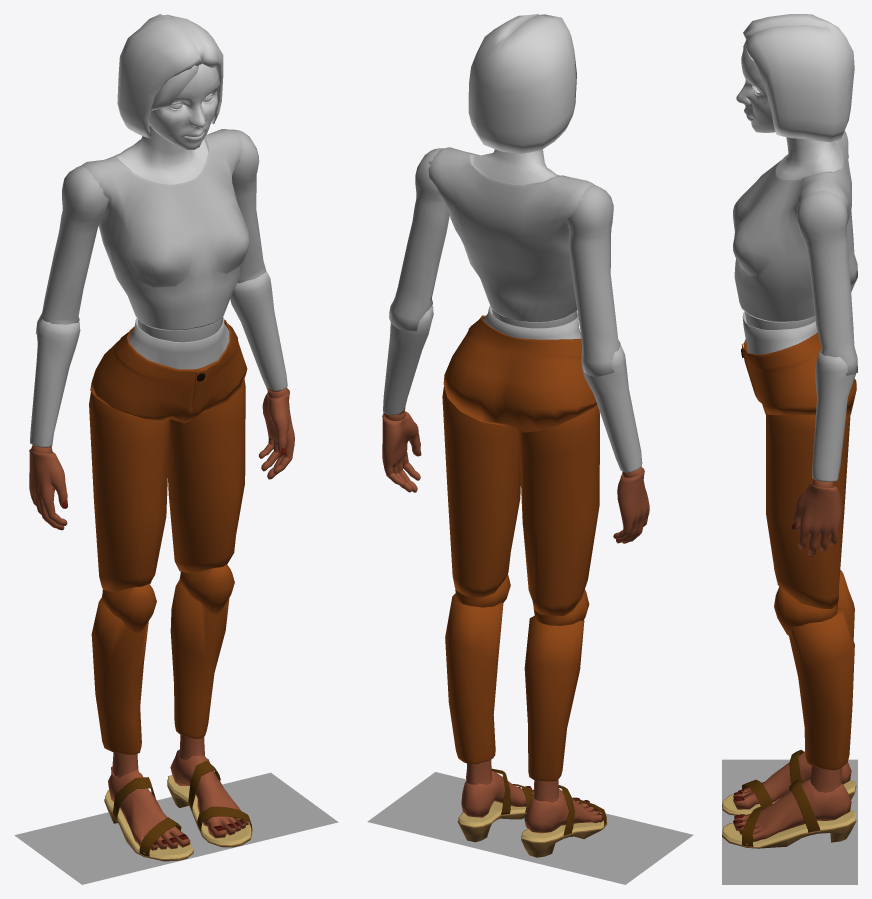
The picture shows the model from 3 angles, left to right: view 1: azimuth 30°, elevation 25°; view 2: azimuth 150°, elevation 25°; view 3: azimuth 270°, elevation 25°; orthographic projection.
Visible parts, largest first — view 1: sweethome3d_mannequin_chest_260_3, ground_1, sweethome3d_mannequin_left_thigh_37, sweethome3d_mannequin_right_thigh_49, sweethome3d_mannequin_pelvis_34, sweethome3d_mannequin_head_954_30, sweethome3d_mannequin_right_leg_84_51, sweethome3d_mannequin_left_leg_84_39, sweethome3d_mannequin_right_forearm_19, sweethome3d_mannequin_left_forearm_10, sweethome3d_mannequin_right_arm_96_15, sweethome3d_mannequin_head_31 (+18 smaller); view 2: sweethome3d_mannequin_chest_260_3, sweethome3d_mannequin_head_954_30, sweethome3d_mannequin_pelvis_34, ground_1, sweethome3d_mannequin_right_thigh_49, sweethome3d_mannequin_left_thigh_37, sweethome3d_mannequin_left_leg_84_39, sweethome3d_mannequin_right_leg_84_51, sweethome3d_mannequin_right_arm_96_15, sweethome3d_mannequin_left_arm_96_6, sweethome3d_mannequin_right_forearm_19, sweethome3d_mannequin_left_forearm_10 (+14 smaller); view 3: sweethome3d_mannequin_chest_260_3, sweethome3d_mannequin_head_954_30, ground_1, sweethome3d_mannequin_left_thigh_37, sweethome3d_mannequin_left_leg_84_39, sweethome3d_mannequin_pelvis_34, sweethome3d_mannequin_left_arm_96_6, sweethome3d_mannequin_left_forearm_10, sweethome3d_mannequin_left_foot_46, sweethome3d_mannequin_left_arm_7, sweethome3d_mannequin_left_hand_13, sweethome3d_mannequin_chest_4 (+14 smaller).
Part boxes in pixels (box(x1,y1,x2,y2)): sweethome3d_mannequin_chest_260_3: box(75, 129, 249, 330); ground_1: box(14, 772, 338, 884); sweethome3d_mannequin_left_thigh_37: box(168, 410, 245, 573); sweethome3d_mannequin_right_thigh_49: box(90, 428, 169, 591); sweethome3d_mannequin_pelvis_34: box(90, 319, 247, 423); sweethome3d_mannequin_head_954_30: box(117, 14, 223, 138); sweethome3d_mannequin_right_leg_84_51: box(91, 598, 148, 754); sweethome3d_mannequin_left_leg_84_39: box(170, 579, 229, 738); sweethome3d_mannequin_right_forearm_19: box(30, 319, 80, 447); sweethome3d_mannequin_left_forearm_10: box(230, 270, 287, 391); sweethome3d_mannequin_right_arm_96_15: box(35, 217, 97, 333); sweethome3d_mannequin_head_31: box(148, 63, 220, 149); sweethome3d_mannequin_chest_260_3: box(428, 147, 594, 322); sweethome3d_mannequin_head_954_30: box(468, 14, 576, 153); sweethome3d_mannequin_pelvis_34: box(443, 315, 596, 432); ground_1: box(367, 772, 693, 884); sweethome3d_mannequin_right_thigh_49: box(519, 437, 599, 616); sweethome3d_mannequin_left_thigh_37: box(443, 420, 520, 597); sweethome3d_mannequin_left_leg_84_39: box(445, 593, 503, 764); sweethome3d_mannequin_right_leg_84_51: box(524, 616, 584, 781); sweethome3d_mannequin_right_arm_96_15: box(569, 245, 620, 377); sweethome3d_mannequin_left_arm_96_6: box(389, 207, 449, 331); sweethome3d_mannequin_right_forearm_19: box(581, 346, 642, 472); sweethome3d_mannequin_left_forearm_10: box(383, 302, 433, 415); sweethome3d_mannequin_chest_260_3: box(733, 131, 851, 322); sweethome3d_mannequin_head_954_30: box(743, 14, 854, 142); ground_1: box(722, 759, 857, 884); sweethome3d_mannequin_left_thigh_37: box(766, 438, 848, 608); sweethome3d_mannequin_left_leg_84_39: box(789, 607, 854, 770); sweethome3d_mannequin_pelvis_34: box(741, 332, 856, 415); sweethome3d_mannequin_left_arm_96_6: box(808, 245, 857, 375); sweethome3d_mannequin_left_forearm_10: box(812, 350, 855, 481); sweethome3d_mannequin_left_foot_46: box(733, 779, 851, 841); sweethome3d_mannequin_left_arm_7: box(796, 191, 848, 257); sweethome3d_mannequin_left_hand_13: box(792, 482, 841, 556); sweethome3d_mannequin_chest_4: box(776, 137, 843, 179).
Bounding box in the file's own units: 58.5 × 175 × 26.8.
